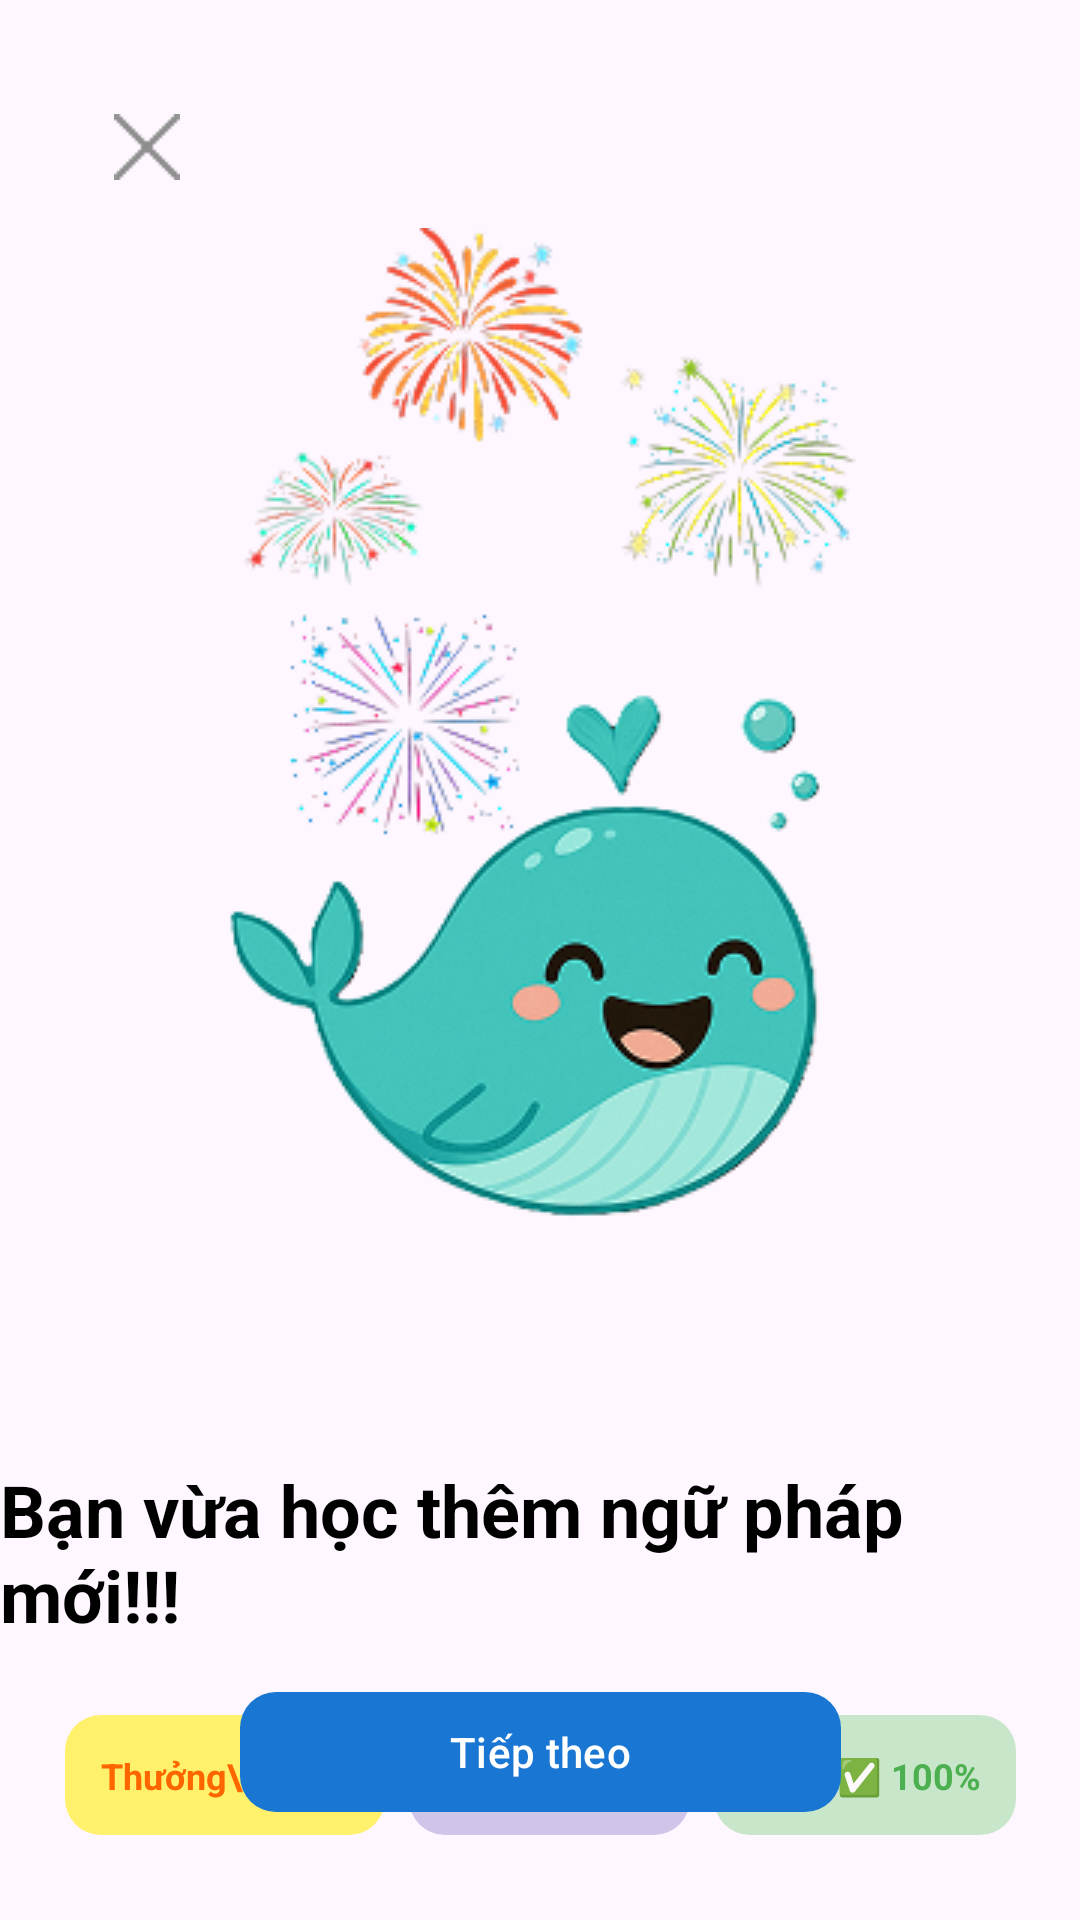

Locate icon controls on the screen. Image size 1080 x 1920, boxes as (x1, y1, x2, y2).
close: (114, 114, 180, 180)
